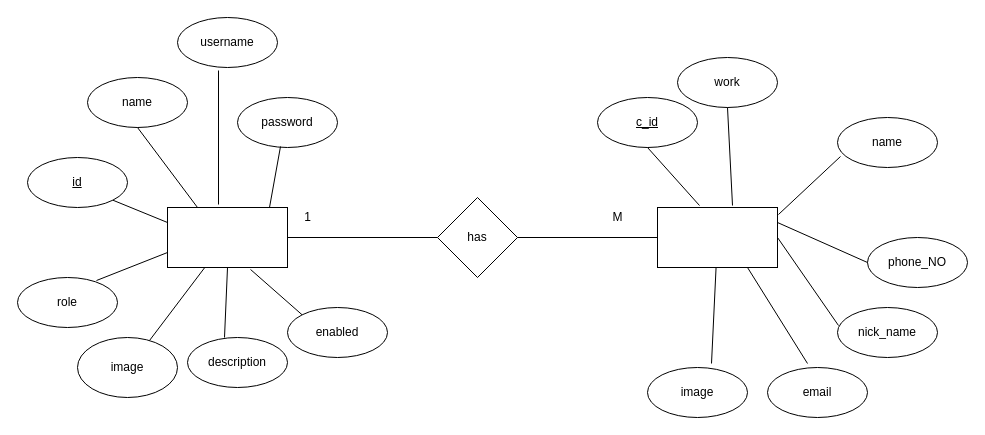
Image size: 985x435. Some labels were removed from this diagram. Here are the shapes that lost their labels. From the top down, the centre of each, then its label:
At point 227,237: "User".
At point 717,237: "contact".
